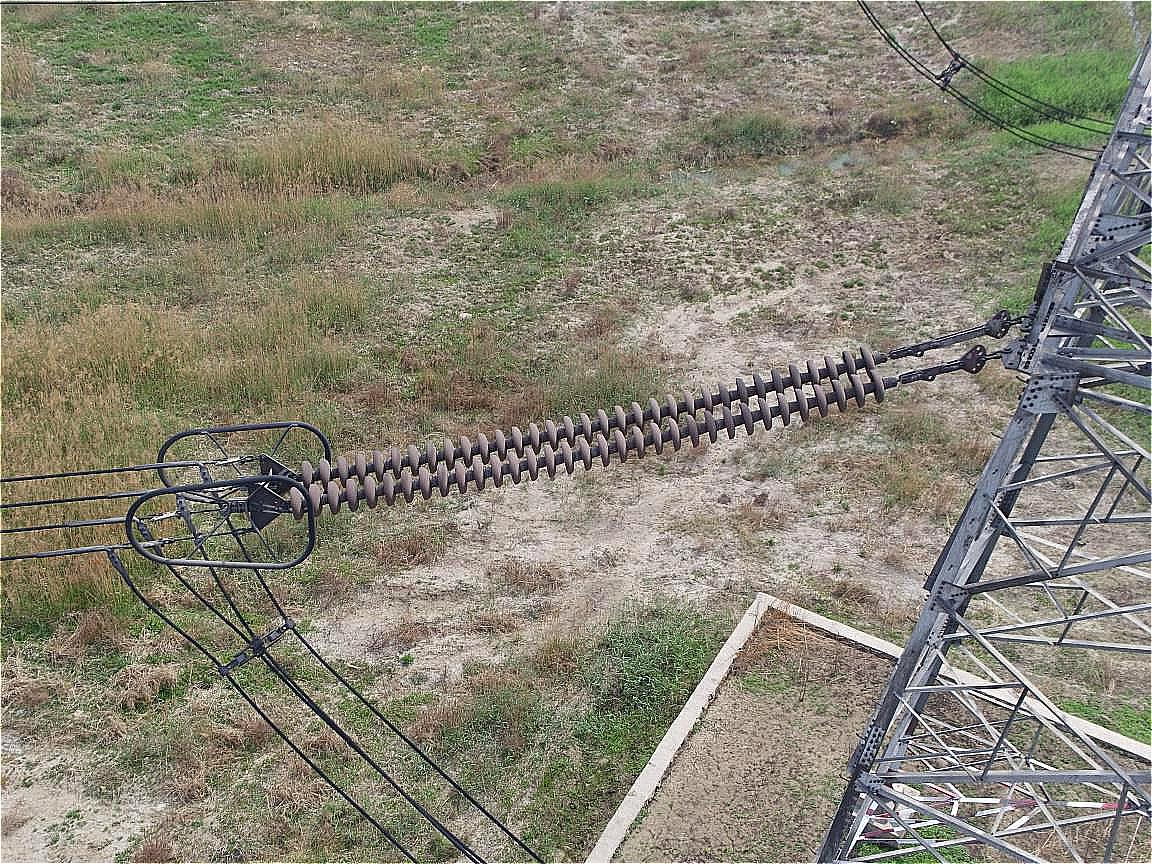insultor1: (290, 344, 886, 518)
